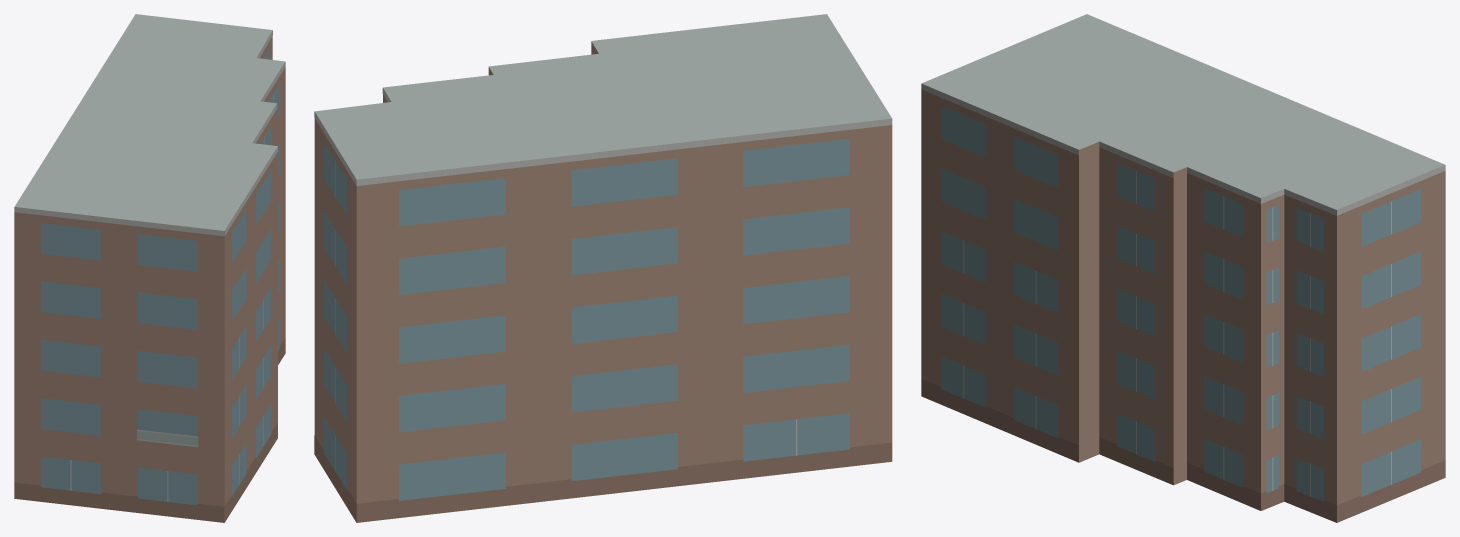
The model's file is survey-upis-32946339.glb.
The picture shows the model from 3 angles, left to right: view 1: azimuth 30°, elevation 25°; view 2: azimuth 150°, elevation 25°; view 3: azimuth 270°, elevation 25°; orthographic projection. The views are drawn at different scales.
Visible parts, largest first — view 1: survey-upis-32946339.tmp; view 2: survey-upis-32946339.tmp; view 3: survey-upis-32946339.tmp.
Part boxes in pixels (<box>): survey-upis-32946339.tmp: <box>14,14,285,522</box>; survey-upis-32946339.tmp: <box>314,14,892,522</box>; survey-upis-32946339.tmp: <box>921,14,1445,522</box>.
Bounding box in the file's own units: 17.75 × 13.2 × 20.05.
